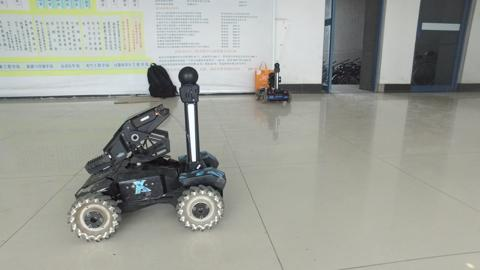bag: (139, 58, 181, 104)
chariot: (60, 64, 226, 242), (253, 58, 294, 108)
